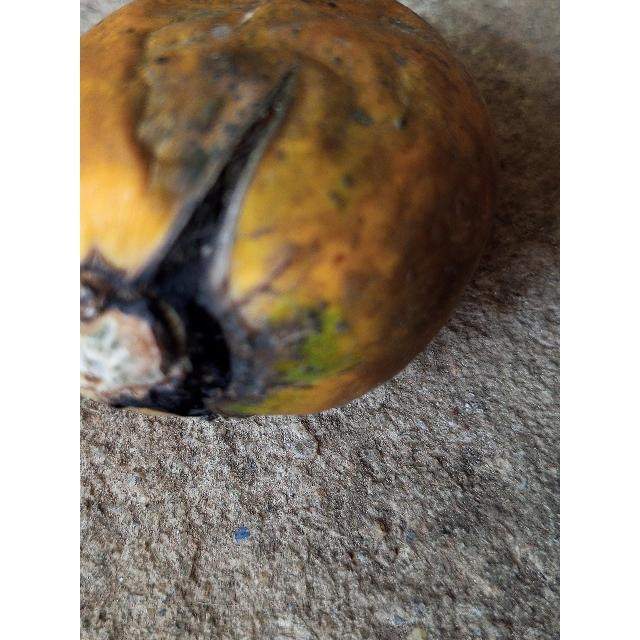damaged: (80, 0, 497, 417)
